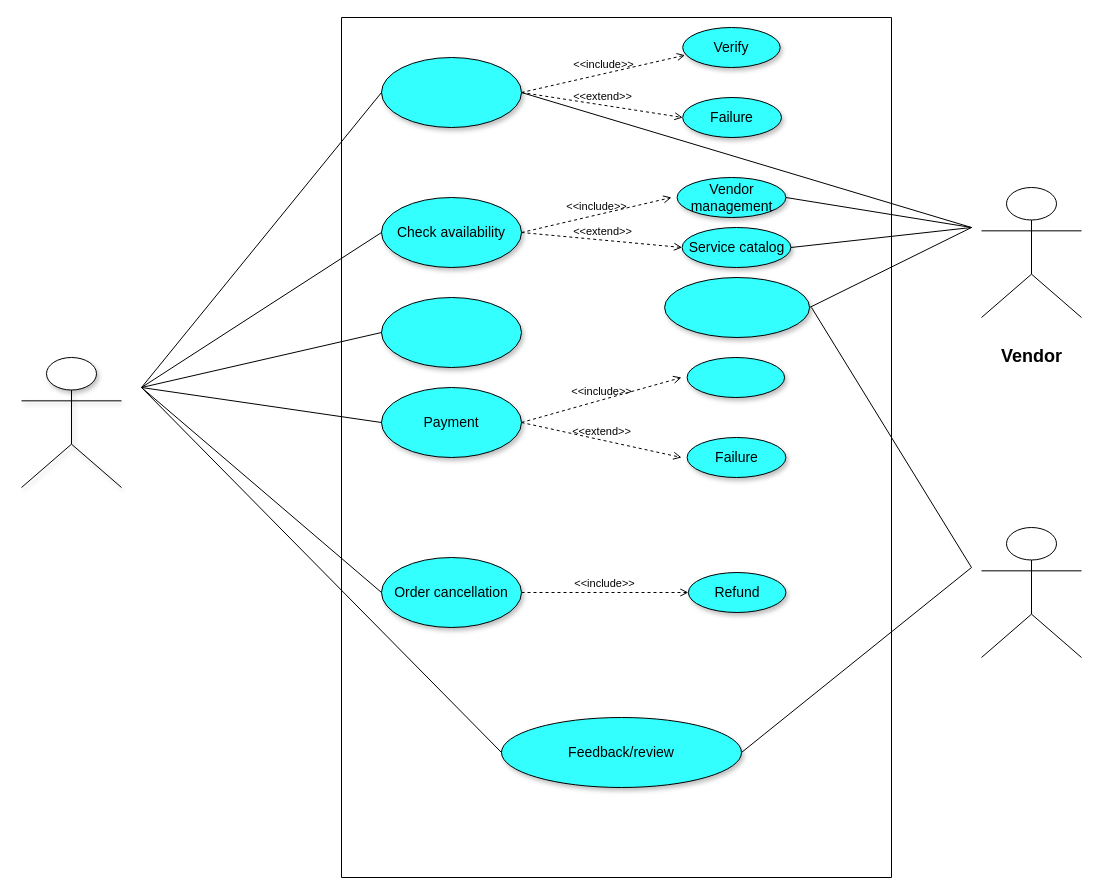
The diagram is 1099 pixels wide and 895 high, and some of its shapes have lost their labels. Here are the shapes that lost their labels. From the top down, the centre of each, then its label:
At point 452,93: "Sign in / sign up".
At point 738,308: "Payment distribution".
At point 452,333: "Order confirmation".
At point 736,378: "Success".
At point 72,423: "End-User".
At point 1031,592: "Admin".
